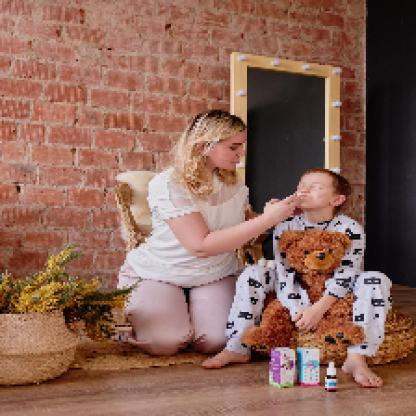child: (202, 168, 394, 389)
